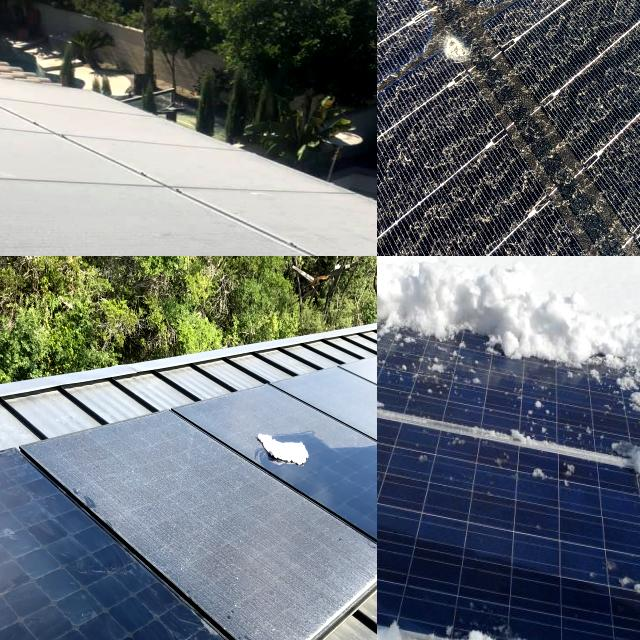bird: (406, 0, 509, 81)
dust: (407, 137, 595, 256), (492, 0, 640, 124), (29, 536, 204, 640), (98, 440, 240, 536), (0, 459, 73, 640), (228, 390, 377, 458), (0, 197, 168, 256), (0, 115, 129, 181), (377, 0, 475, 81), (258, 512, 334, 615), (120, 150, 294, 183), (263, 193, 377, 242), (495, 0, 640, 30), (377, 150, 416, 256), (213, 549, 251, 622), (161, 412, 208, 430)
panel: (505, 293, 625, 406), (377, 256, 438, 413), (377, 278, 488, 364), (377, 536, 435, 640), (377, 429, 424, 510), (428, 621, 621, 640), (619, 430, 640, 586), (377, 256, 481, 286), (377, 596, 421, 640)
